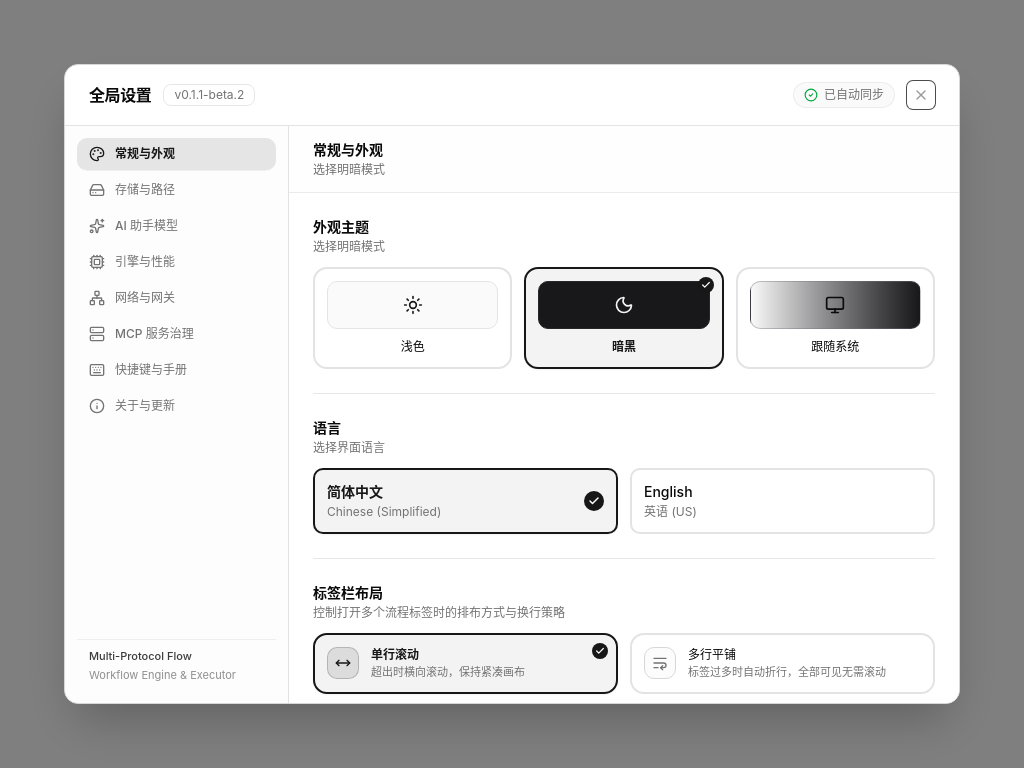
Test case: SettingsDialog › 切换到网络 Tab 时展示 Ingress 网关端口配置与预览
Click the button "网络与网关" at (176, 298), box x1=77 y1=282 x2=276 y2=314
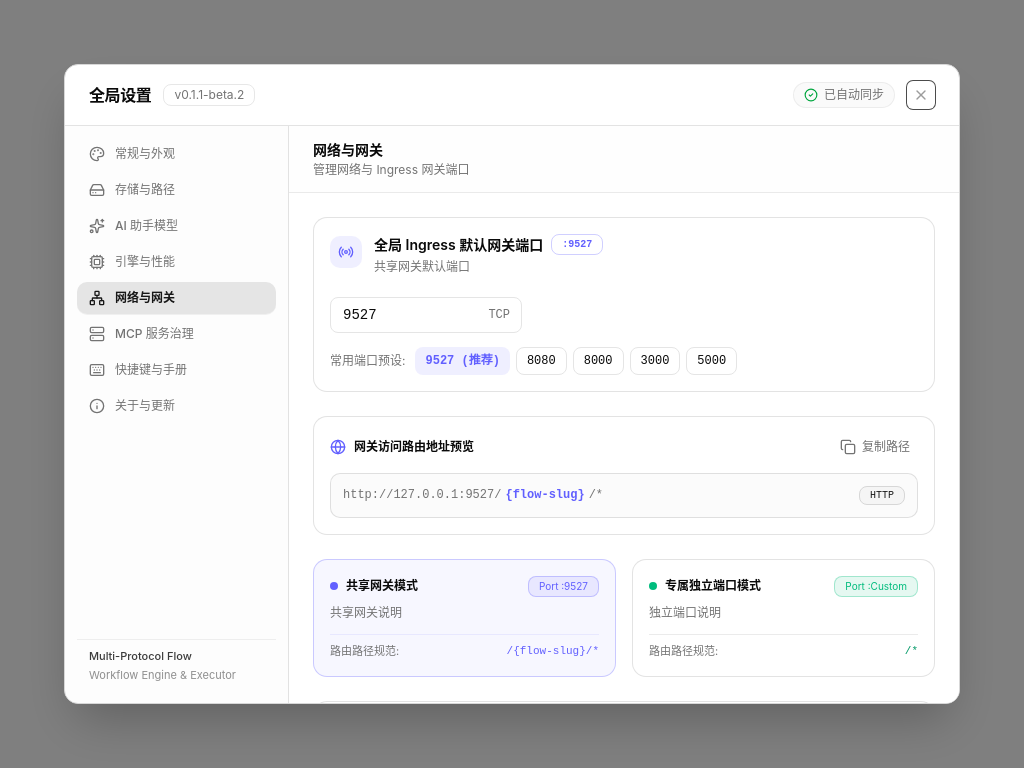
Check: the text "全局 Ingress 默认网关端口" is shown, box x1=374 y1=234 x2=543 y2=254
Check: the text "网关访问路由地址预览" is shown, box x1=354 y1=438 x2=474 y2=454
Check: the heading "共享网关模式" is shown, box x1=346 y1=578 x2=418 y2=594
